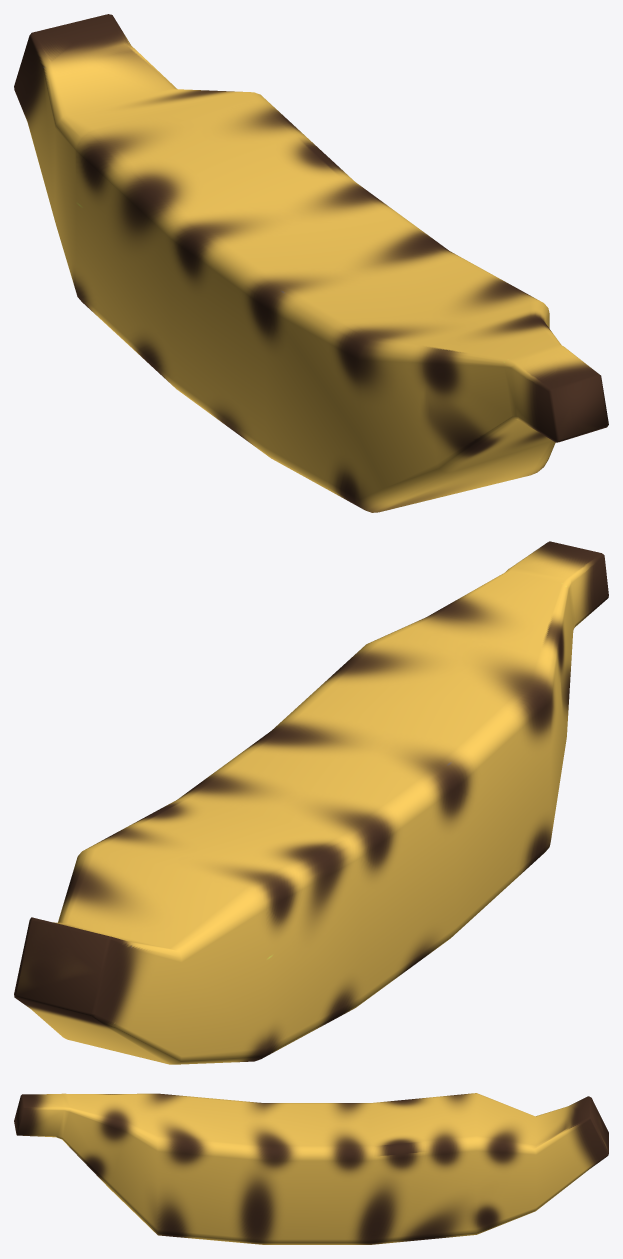
The model's file is banana.fbx.
3 views of the same model, one above another, from view 1: azimuth 30°, elevation 25°; view 2: azimuth 150°, elevation 25°; view 3: azimuth 270°, elevation 25° (orthographic). The views are drawn at different scales.
Parts seen in each view (by area): view 1: banana; view 2: banana; view 3: banana.
Boxes of the visible parts, x1,y1,x2,y2 form: banana: [14, 14, 608, 512]; banana: [14, 541, 608, 1064]; banana: [14, 1093, 608, 1244].
Size of the model in its own units: 82.41 by 90.48 by 398.
